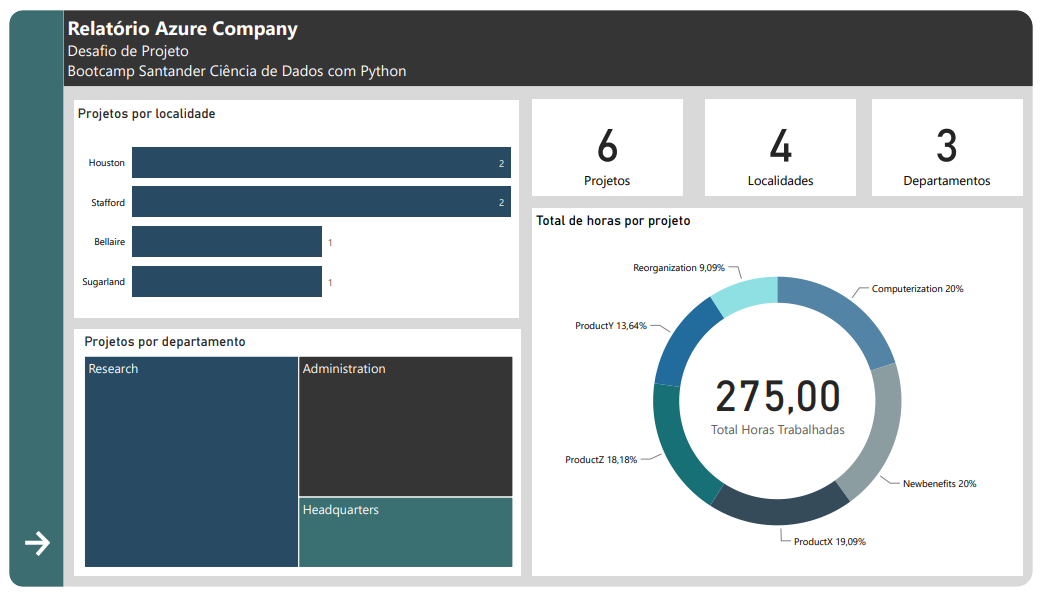

The dashboard page shown, as its layout file describes it:
{"tool":"powerbi","page":{"name":"Projetos","canvas":[1280,720],"ordinal":0},"visuals":[{"type":"group","id":"g1","title":"Layout","box":[0,0,1280,720.4],"z":0},{"type":"shape","title":"Fundo","box":[0,0,1280,720.4],"z":0,"group":"g1"},{"type":"shape","title":"Barra lateral","box":[0,0,68.1,720.4],"z":1000,"group":"g1"},{"type":"shape","box":[654.2,110.6,188,121.7],"z":1000},{"type":"shape","title":"Cabeçalho","box":[68.1,0,1211.9,94.5],"z":2000,"group":"g1"},{"type":"shape","box":[80.6,398.2,556.2,308.1],"z":2000},{"type":"textbox","title":"Texto cabeçalho","box":[68.1,0,658,94.5],"z":3000,"group":"g1"},{"type":"shape","box":[80.6,112.2,556.2,271.8],"z":3000},{"type":"shape","box":[654.2,246.5,613.1,459.9],"z":4000},{"type":"donutChart","title":"Total de horas por projeto","fields":{"Category":["azure_company project.Project_name"],"Y":["Sum(azure_company works_on.Hours)"]},"box":[654.2,246.5,613.1,458.3],"z":5000},{"type":"card","fields":{"Values":["azure_company works_on.Total Horas Trabalhadas"]},"box":[870.7,431.4,181.7,107.5],"z":6000},{"type":"barChart","title":"Projetos por localidade","fields":{"Y":["CountNonNull(azure_company project.Project_number)"],"Category":["azure_company project.Project_location"]},"box":[80.6,113.8,556.2,270.2],"z":7000},{"type":"treemap","title":"Projetos por departamento","fields":{"Values":["CountNonNull(azure_company project.Project_name)"],"Details":["azure_company department.Dept_name"]},"box":[83.8,398.2,556.2,308.1],"z":8000},{"type":"actionButton","box":[14.2,646.3,39.5,39.5],"z":9000},{"type":"shape","box":[1079.3,110.6,188,121.7],"z":10000},{"type":"shape","box":[870.7,110.6,188,121.7],"z":11000},{"type":"card","fields":{"Values":["Count(azure_company project.Project_name)"]},"box":[654.2,110.6,188,121.7],"z":12000},{"type":"card","fields":{"Values":["Count(azure_company project.Project_location)"]},"box":[870.7,110.6,188,121.7],"z":13000},{"type":"card","fields":{"Values":["CountNonNull(azure_company department.Dept_name)"]},"box":[1079.3,110.6,188,121.7],"z":14000}]}

Visuals, with their boxes in screenshot pixels (x1, y1, x2, y2), scaled from the page's 1280x720 canvas onto the 1044x594 screenshot:
"Layout" group: bbox(0, 0, 1043, 593)
"Fundo" shape: bbox(0, 0, 1043, 593)
"Barra lateral" shape: bbox(0, 0, 56, 593)
shape: bbox(534, 91, 687, 192)
"Cabeçalho" shape: bbox(56, 0, 1043, 78)
shape: bbox(66, 329, 519, 583)
"Texto cabeçalho" textbox: bbox(56, 0, 592, 78)
shape: bbox(66, 93, 519, 317)
shape: bbox(534, 203, 1034, 583)
"Total de horas por projeto" donutChart: bbox(534, 203, 1034, 581)
card - azure_company works_on.Total Horas Trabalhadas: bbox(710, 356, 858, 445)
"Projetos por localidade" barChart: bbox(66, 94, 519, 317)
"Projetos por departamento" treemap: bbox(68, 329, 522, 583)
actionButton: bbox(12, 533, 44, 566)
shape: bbox(880, 91, 1034, 192)
shape: bbox(710, 91, 864, 192)
card - Count(azure_company project.Project_name): bbox(534, 91, 687, 192)
card - Count(azure_company project.Project_location): bbox(710, 91, 864, 192)
card - CountNonNull(azure_company department.Dept_name): bbox(880, 91, 1034, 192)
